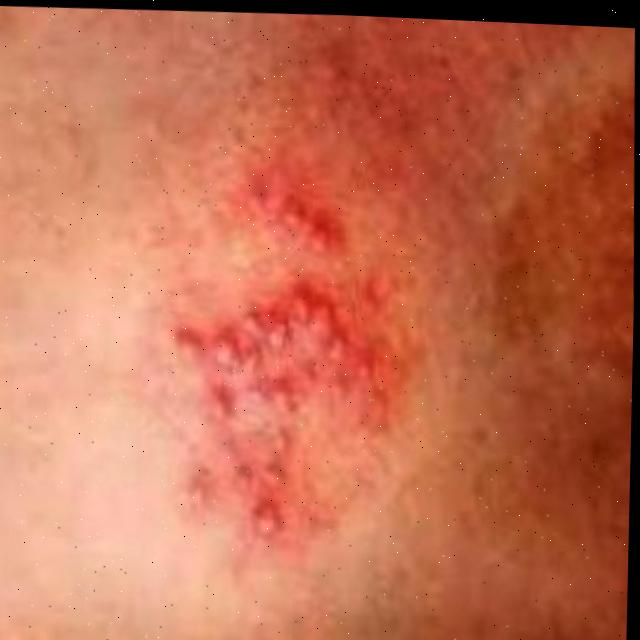Shingles: (155, 262, 388, 553), (246, 190, 342, 257)
